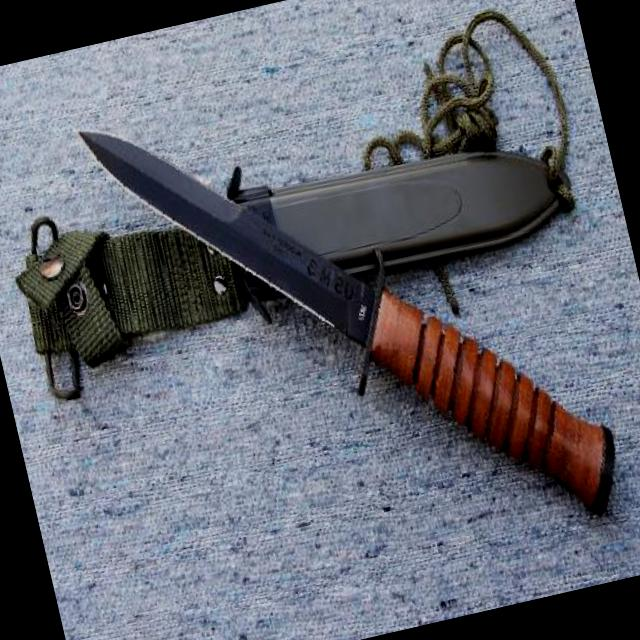knife: (70, 61, 390, 400)
